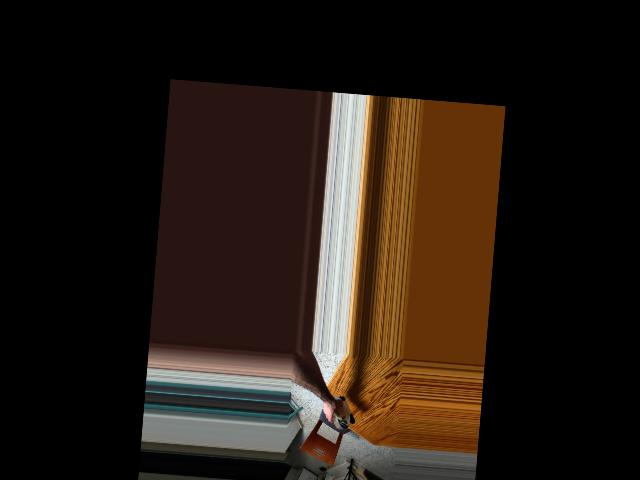cheese: (321, 392, 357, 430)
